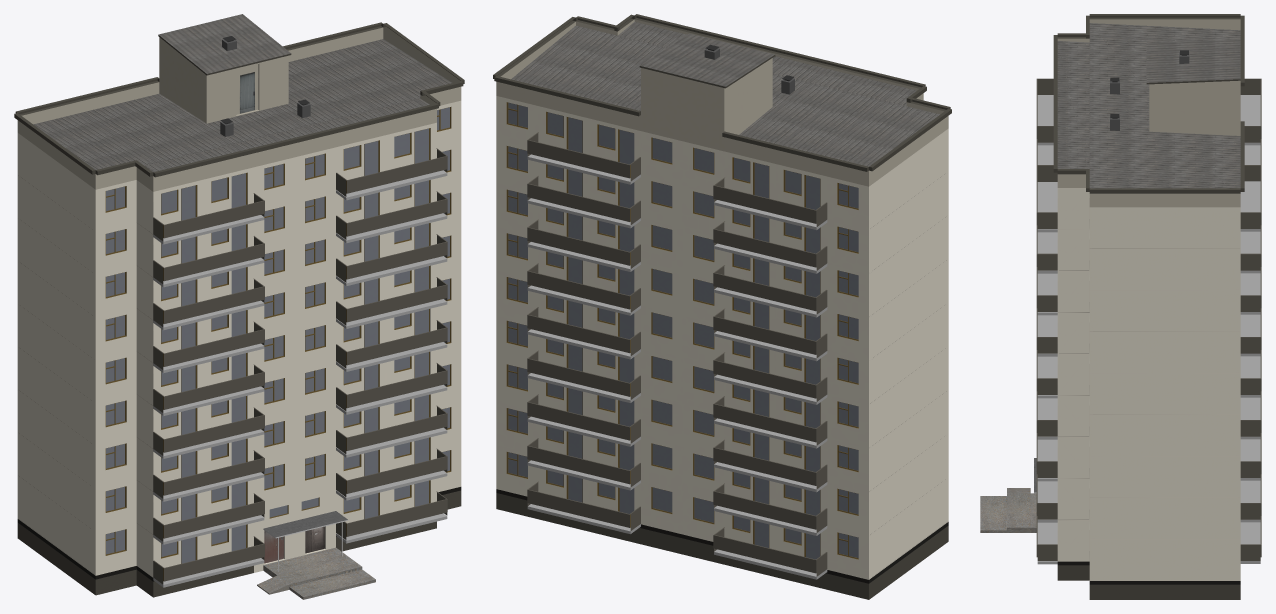
File: residential_house_my_imagination.glb
3 views of the same model, side by side, from view 1: azimuth 30°, elevation 25°; view 2: azimuth 150°, elevation 25°; view 3: azimuth 270°, elevation 25° (orthographic). The views are drawn at different scales.
Parts seen in each view (by area): view 1: Plane033; view 2: Plane033; view 3: Plane033.
Boxes of the visible parts, x1,y1,x2,y2 form: Plane033: (14,14,464,599); Plane033: (493,14,951,599); Plane033: (980,14,1261,599).
Bounding box in the file's own units: 2.31 × 2.82 × 1.56.
Materials: 1 (1 with a texture image).
